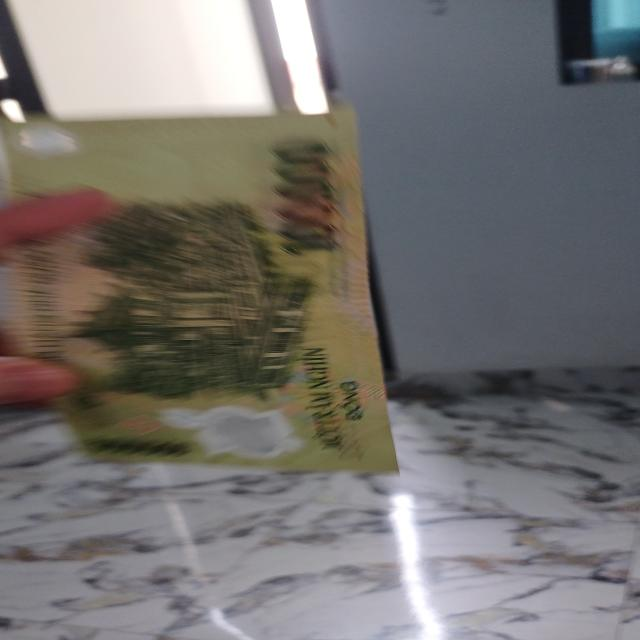100 000 VND: (4, 107, 404, 477)
